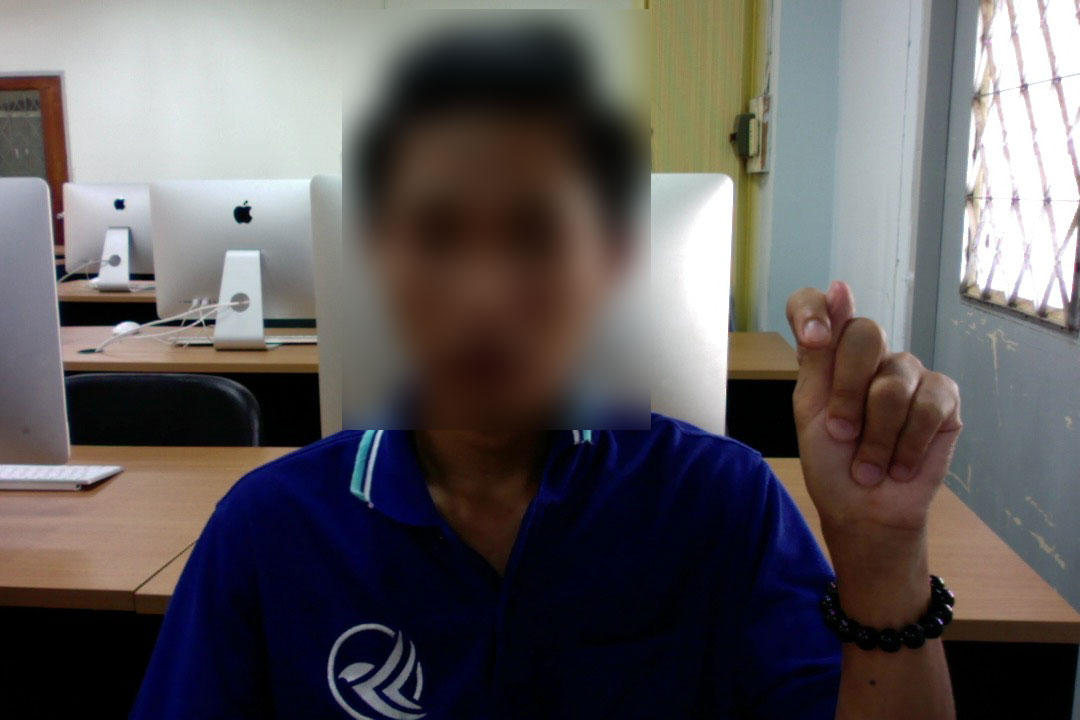tor: (780, 277, 966, 560)
